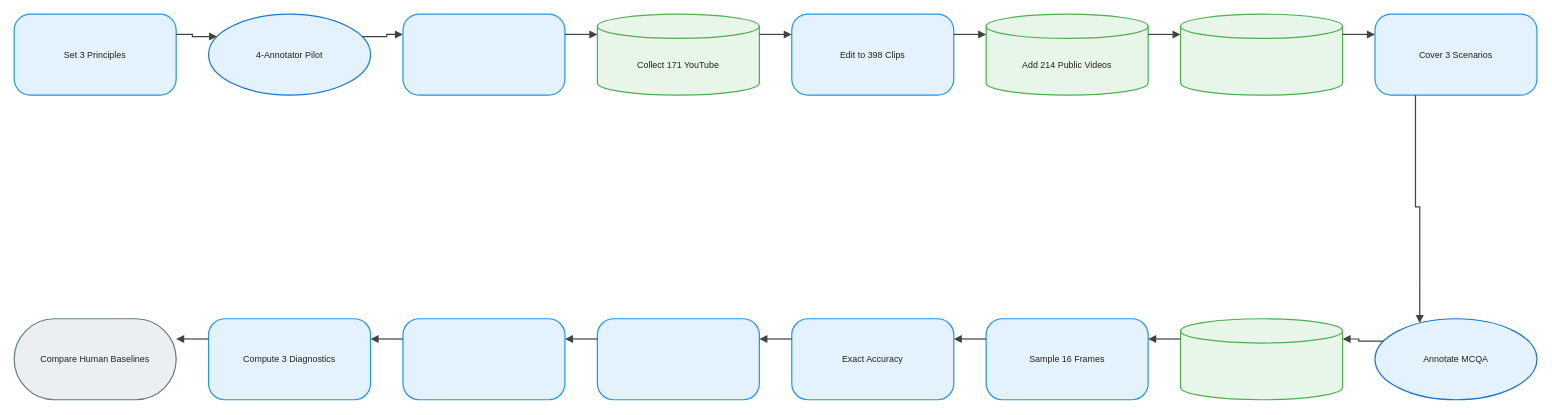
Image size: 1552x415. Some labels were removed from this diagram. Here are the shapes that lost their labels. From the top down, the box of each, then its label:
(402, 13, 565, 95): Finalize 6 Tasks
(1180, 13, 1343, 95): Create 805 Videos
(402, 318, 565, 400): Frame Ablations
(596, 318, 760, 400): Report 6 Tasks
(1180, 318, 1343, 400): Freeze 1,484 / 1,417
